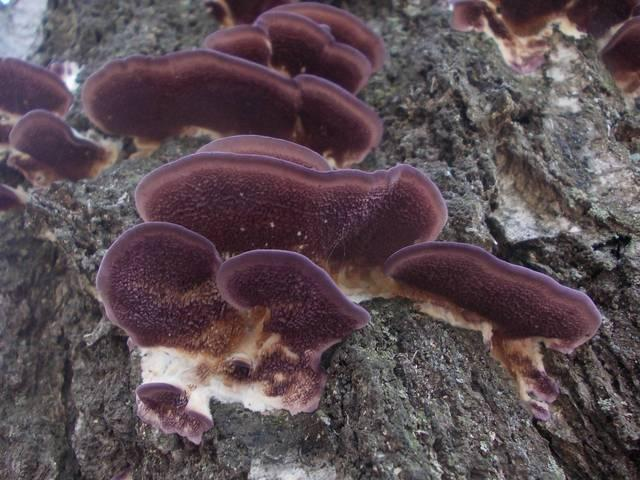Non-edible Mushroom: (0, 0, 462, 267), (93, 219, 372, 445), (381, 238, 603, 422)
